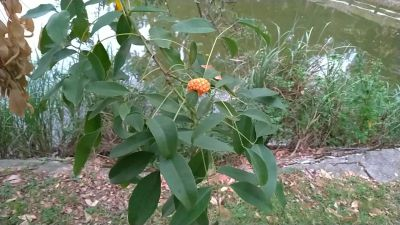eggs: (188, 76, 212, 95)
